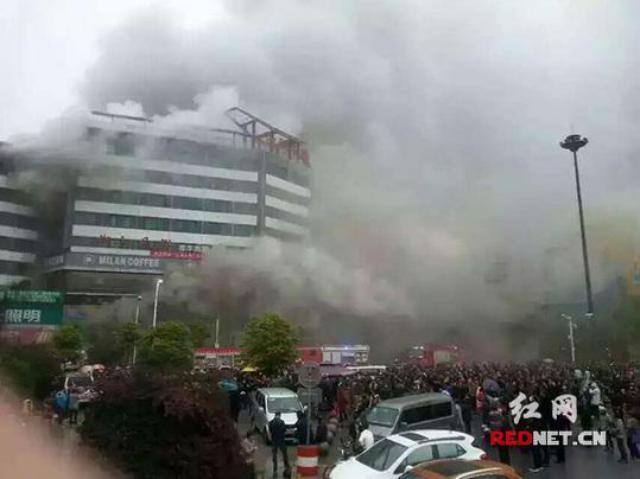smoke: (378, 27, 534, 175), (98, 5, 255, 114), (396, 182, 494, 343), (266, 5, 376, 128), (228, 249, 394, 327), (538, 16, 636, 118), (310, 144, 388, 249), (154, 263, 228, 321), (31, 101, 84, 136)
